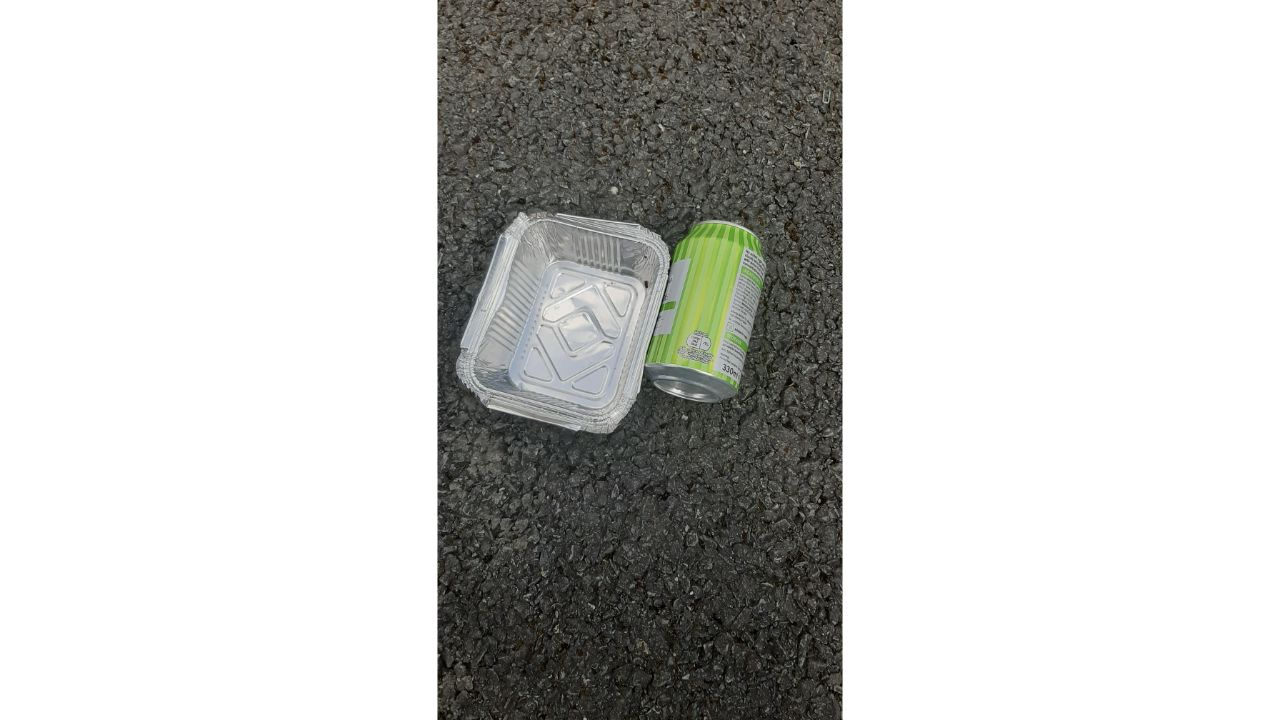Can: (639, 209, 776, 410)
